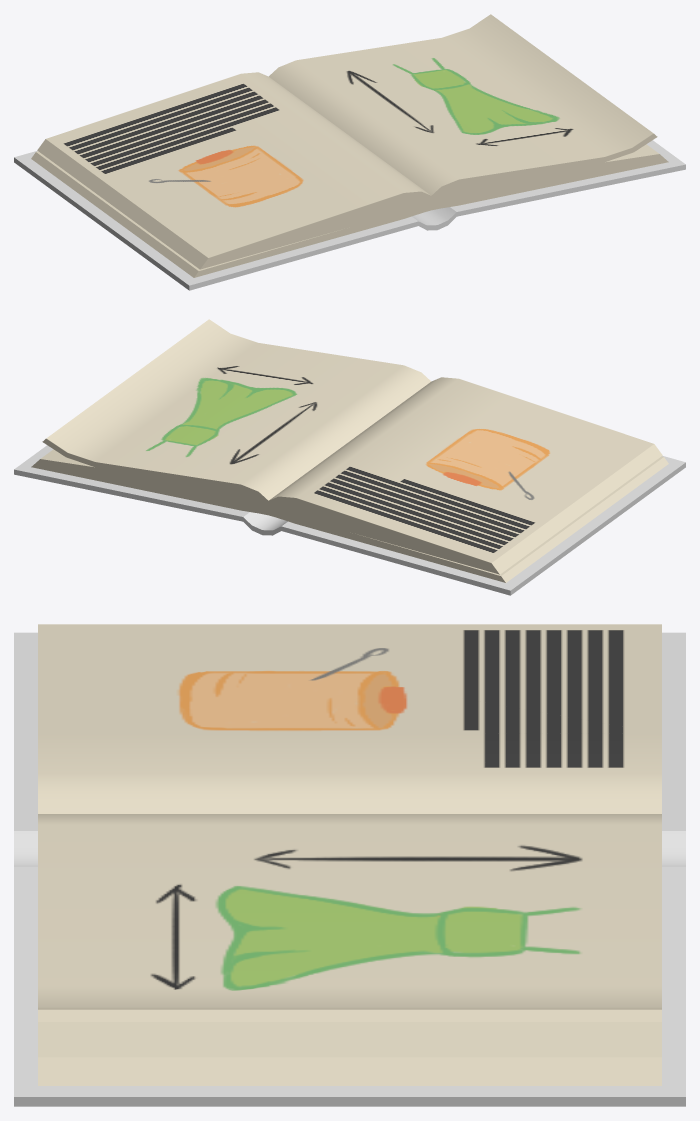
File: book-2-1.fbx
3 renders of one model, top to bottom at view 1: azimuth 30°, elevation 25°; view 2: azimuth 150°, elevation 25°; view 3: azimuth 270°, elevation 25°, orthographic. The views are drawn at different scales.
Parts seen in each view (by area): view 1: book-2-1; view 2: book-2-1; view 3: book-2-1.
Part boxes in pixels (box(x1,y1,x2,y2)): book-2-1: box(14, 14, 685, 290); book-2-1: box(14, 319, 685, 595); book-2-1: box(14, 624, 685, 1106).
Bounding box in the file's own units: 33.38 × 2.53 × 20.42.
Materials: 2 (1 with a texture image).
